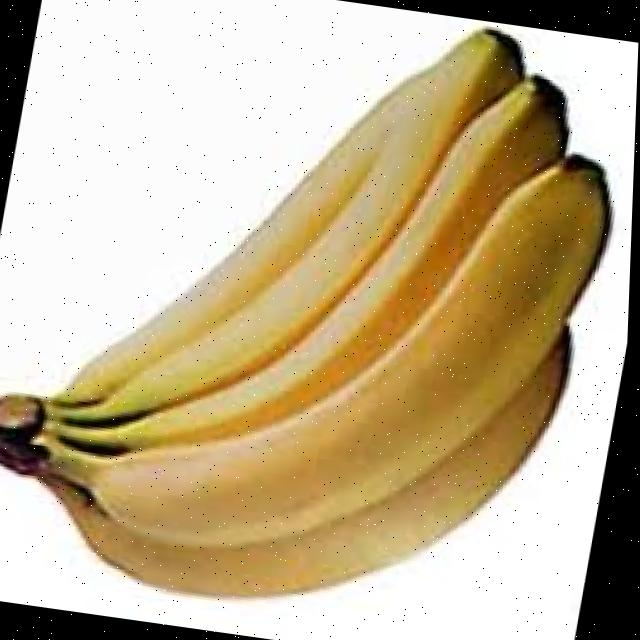Banana: (48, 159, 606, 546)
